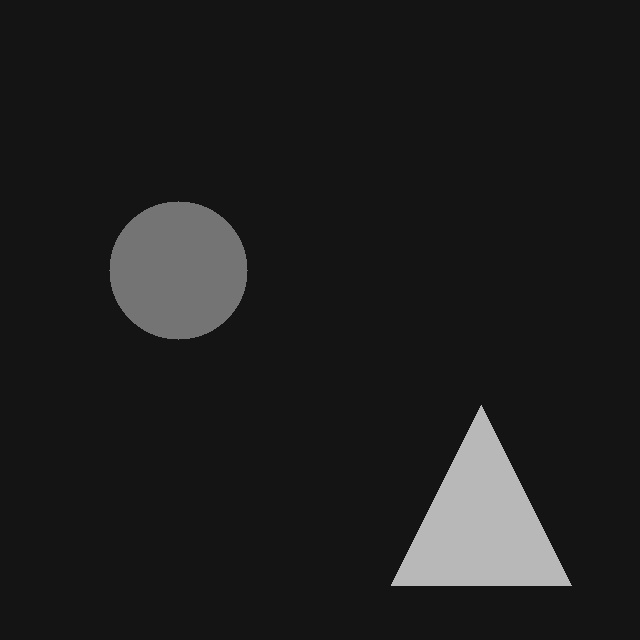circle: (109, 201, 247, 339)
triangle: (391, 405, 571, 585)
